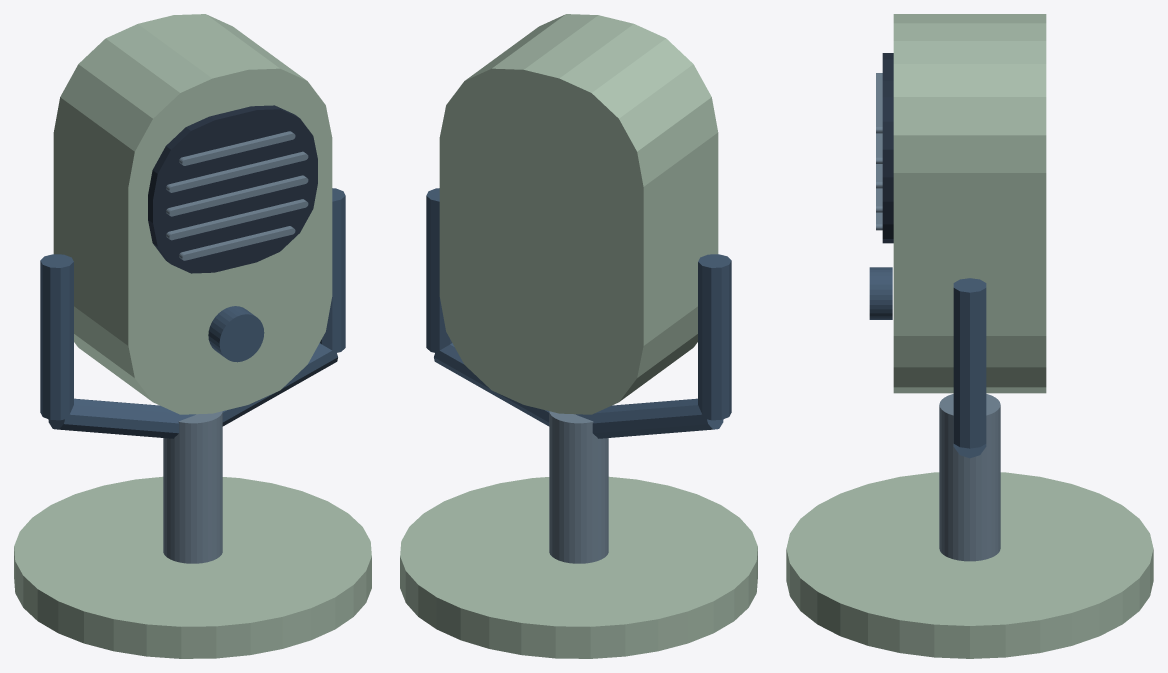
File: mic.glb
3 renders of one model, left to right at view 1: azimuth 30°, elevation 25°; view 2: azimuth 150°, elevation 25°; view 3: azimuth 270°, elevation 25°, orthographic. The views are drawn at different scales.
Visible parts, largest first — view 1: capsule, base, grille, stand, yoke0, yoke1, yoke3, mute key, mesh bar 3, mesh bar 1, mesh bar 2, yoke2 (+2 smaller); view 2: capsule, base, stand, yoke0, yoke1, yoke3, yoke2; view 3: capsule, base, stand, yoke3, grille, mute key.
Boxes of the visible parts, x1,y1,x2,y2 form: capsule: (53, 14, 332, 414); base: (14, 476, 371, 658); grille: (148, 105, 317, 273); stand: (163, 411, 222, 563); yoke0: (40, 254, 73, 420); yoke1: (48, 398, 195, 438); yoke3: (320, 188, 345, 352); mute key: (208, 306, 264, 362); mesh bar 3: (166, 151, 308, 192); mesh bar 1: (166, 199, 308, 240); mesh bar 2: (166, 175, 308, 216); yoke2: (222, 343, 337, 426); capsule: (439, 14, 718, 414); base: (400, 476, 757, 658); stand: (549, 411, 608, 563); yoke0: (698, 254, 731, 420); yoke1: (576, 398, 723, 438); yoke3: (426, 188, 451, 352); yoke2: (434, 343, 549, 426); capsule: (893, 14, 1046, 393); base: (786, 472, 1153, 658); stand: (939, 394, 1000, 561); yoke3: (953, 278, 986, 448); grille: (882, 53, 893, 243); mute key: (869, 267, 892, 319).
Size of the model in its own units: 0.96 by 1.59 by 0.96.
